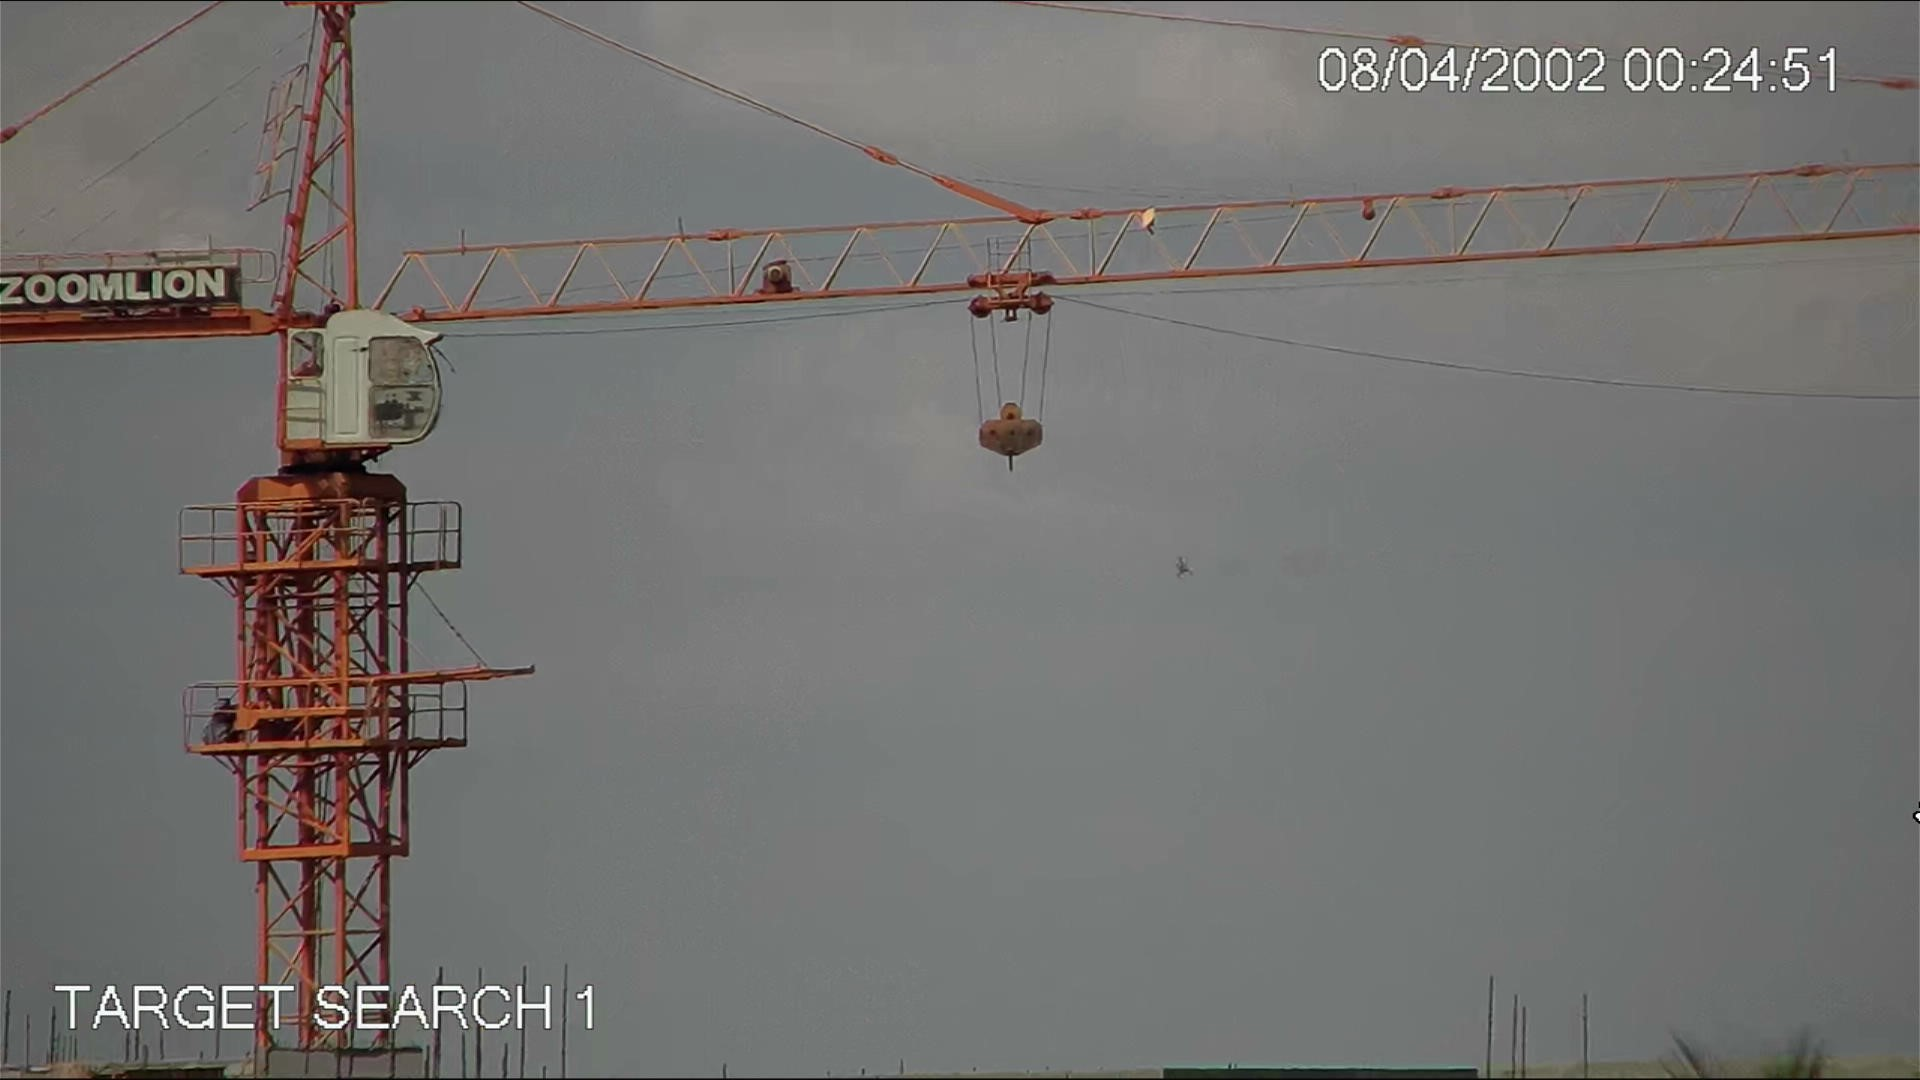SU_30: (1168, 553, 1196, 580)
